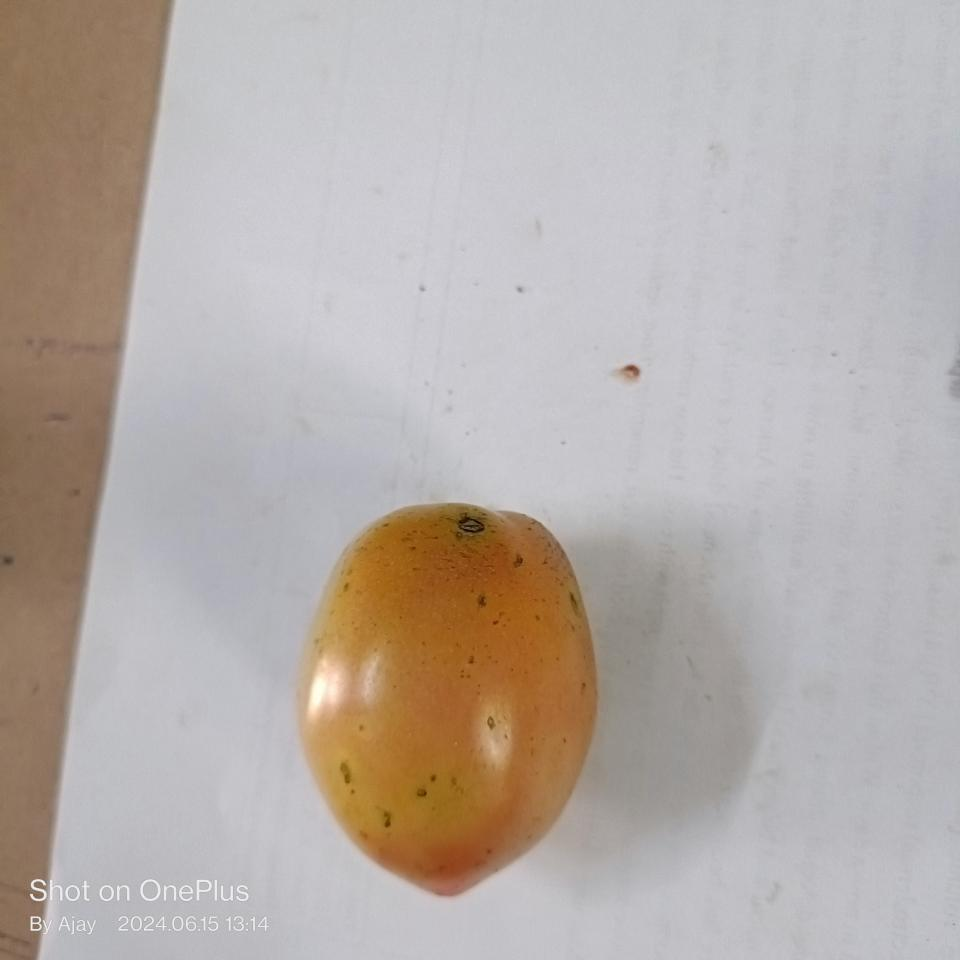Bacterial_Spot: (456, 502, 494, 542), (511, 571, 520, 582)
